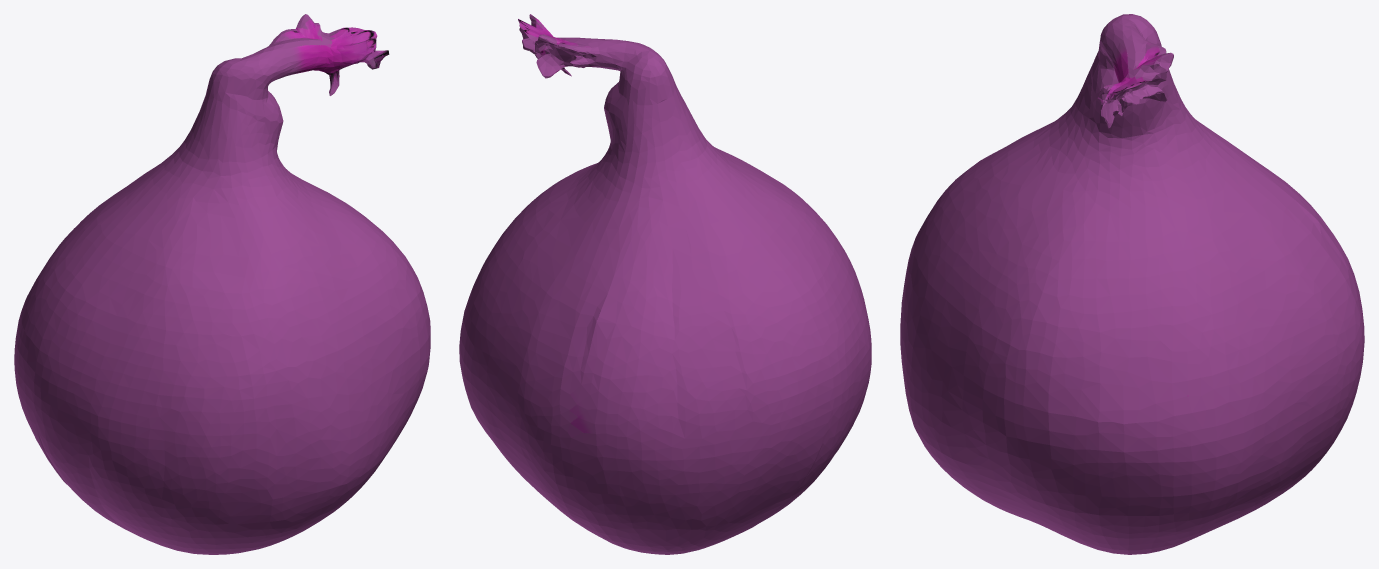
Rendered from onion.glb.
3 renders of one model, left to right at view 1: azimuth 30°, elevation 25°; view 2: azimuth 150°, elevation 25°; view 3: azimuth 270°, elevation 25°, orthographic. The views are drawn at different scales.
Parts seen in each view (by area): view 1: world; view 2: world; view 3: world.
Boxes of the visible parts, x1,y1,x2,y2 form: world: (14, 14, 430, 554); world: (459, 14, 871, 554); world: (900, 14, 1364, 554).
Size of the model in its own units: 0.5524 by 0.6889 by 0.5392.
1 material, 1 textured.
